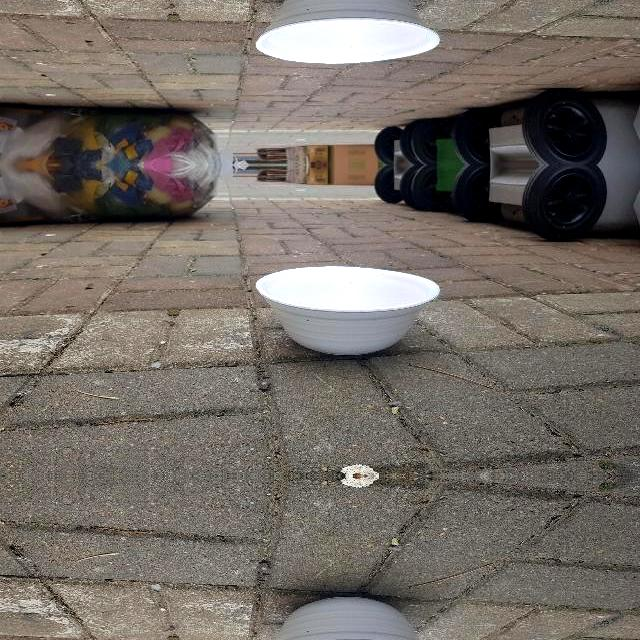Styrofoam: (254, 265, 441, 355), (256, 265, 440, 354), (253, 0, 440, 63), (256, 0, 440, 63), (253, 595, 440, 640), (275, 596, 421, 640)
